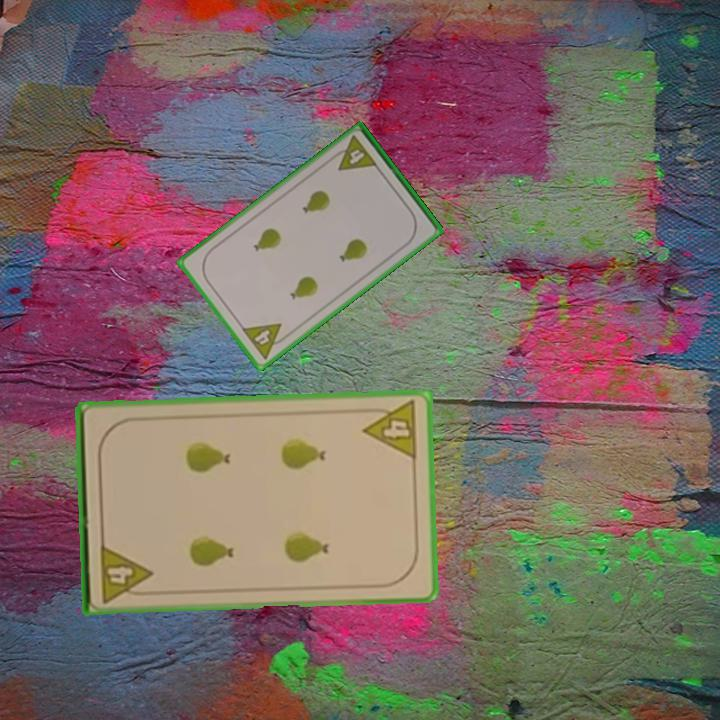4p: (359, 397, 420, 462), (96, 540, 155, 605), (238, 320, 292, 363), (328, 132, 380, 174)
